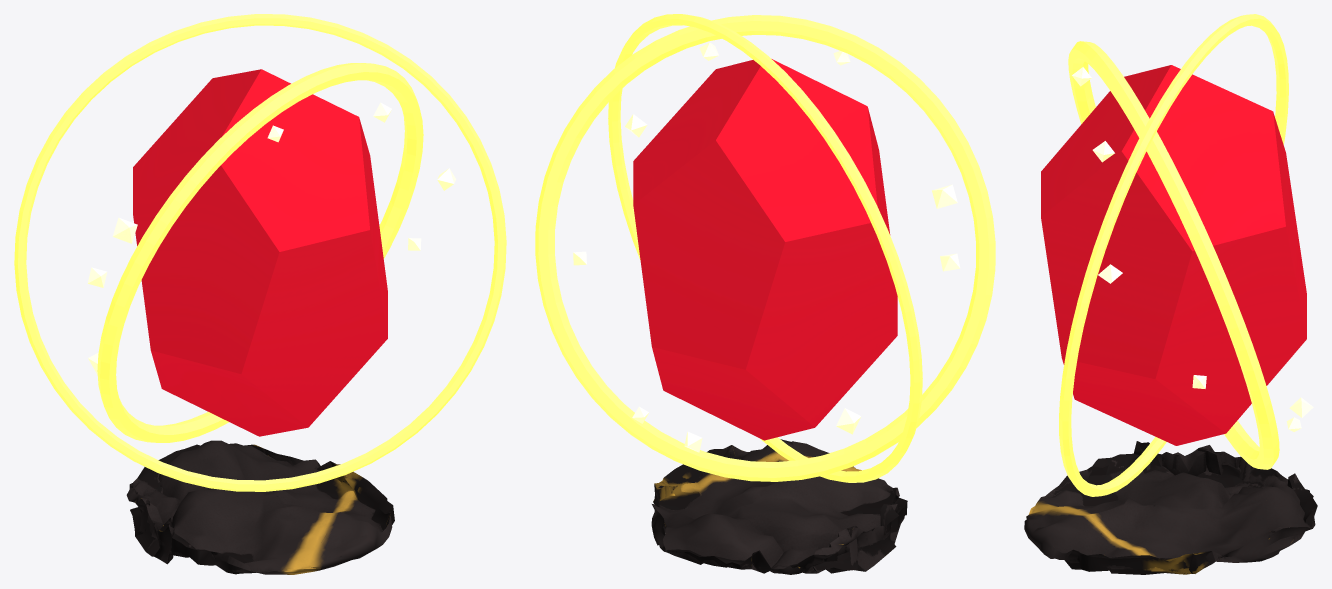
The model's file is piedra_filosofal.fbx.
The picture shows the model from 3 angles, left to right: view 1: azimuth 30°, elevation 25°; view 2: azimuth 150°, elevation 25°; view 3: azimuth 270°, elevation 25°; orthographic projection. The views are drawn at different scales.
Visible parts, largest first — view 1: piedra_filosofal_cristal, piedra_filosofal_neon, piedra_filosofal, piedra_filosofal_orbita; view 2: piedra_filosofal_cristal, piedra_filosofal_neon, piedra_filosofal, piedra_filosofal_orbita; view 3: piedra_filosofal_cristal, piedra_filosofal, piedra_filosofal_neon, piedra_filosofal_orbita.
Boxes of the visible parts, x1,y1,x2,y2 form: piedra_filosofal_cristal: [133, 69, 387, 436]; piedra_filosofal_neon: [14, 14, 506, 491]; piedra_filosofal: [126, 440, 394, 574]; piedra_filosofal_orbita: [87, 102, 456, 374]; piedra_filosofal_cristal: [633, 59, 897, 440]; piedra_filosofal_neon: [535, 14, 995, 482]; piedra_filosofal: [651, 439, 907, 574]; piedra_filosofal_orbita: [573, 42, 960, 452]; piedra_filosofal_cristal: [1041, 65, 1306, 445]; piedra_filosofal: [1024, 441, 1317, 574]; piedra_filosofal_neon: [1059, 14, 1288, 496]; piedra_filosofal_orbita: [1072, 67, 1313, 431].
Size of the model in its own units: 2.55 by 3.11 by 1.6.
Materials: 4 (4 with a texture image).
